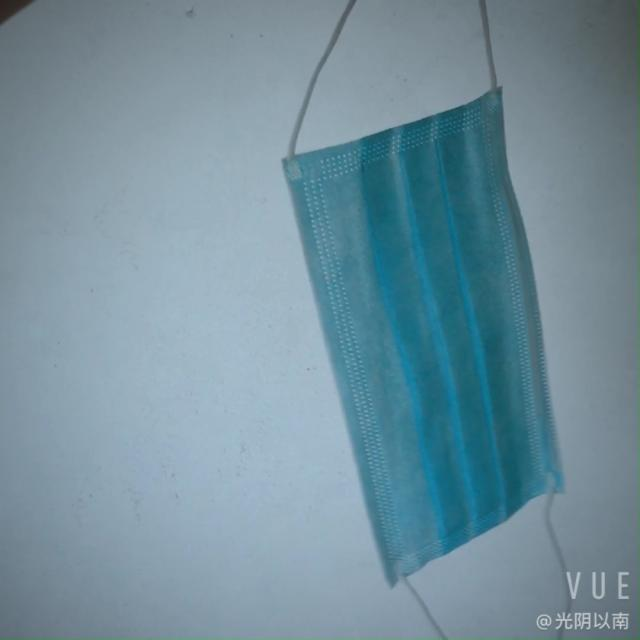non-organic waste: (284, 103, 568, 576)
